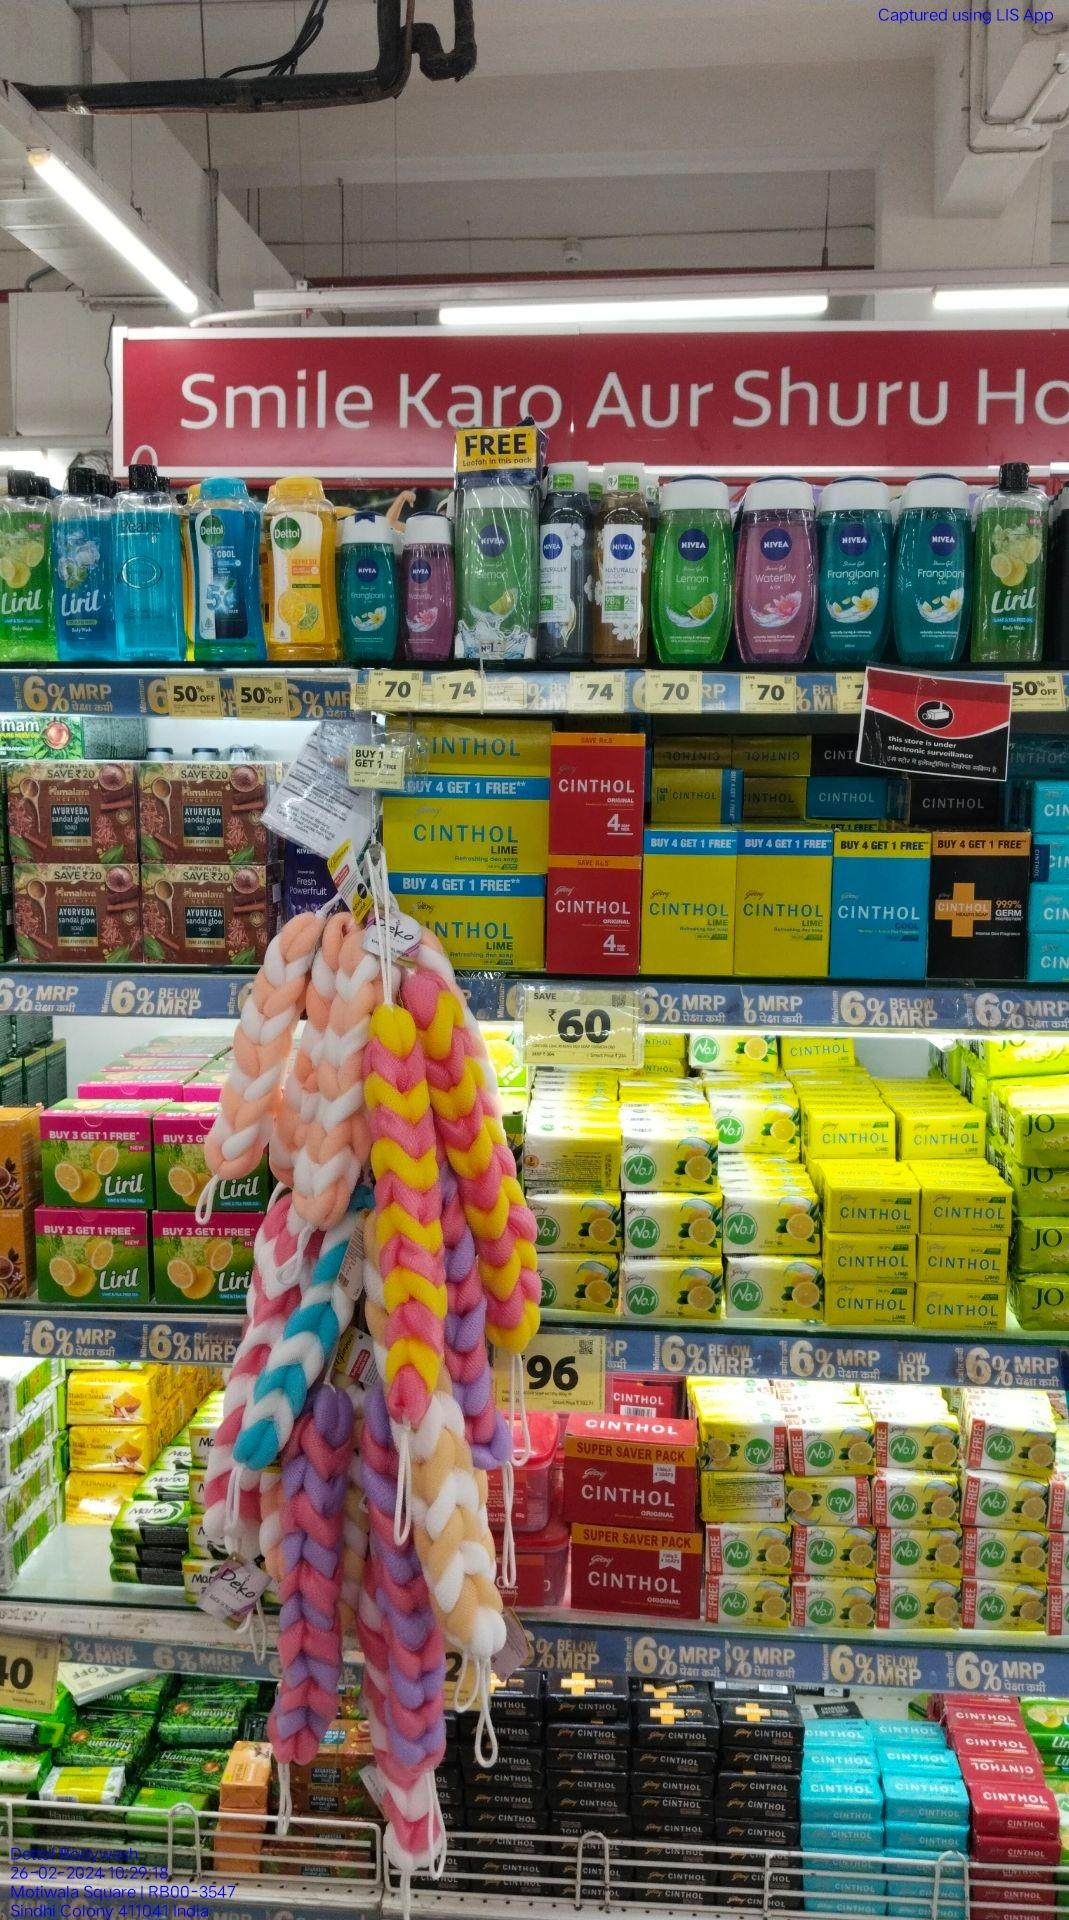Dettol_Bodywash_Cool: (195, 478, 263, 665)
Dettol_Bodywash_Refresh: (266, 479, 342, 662)
Liril_Cooling_Mint_Body_Wash_250ML: (55, 465, 115, 659)
Liril_Lime_and_Tea_Tree_Oil_Body_Wash_250ML: (981, 463, 1048, 665), (0, 466, 54, 661)
Nivea_Shower_Gel_Frangipani_and_Oil_250ML: (902, 478, 970, 666), (820, 476, 885, 654), (345, 517, 395, 658)
Nivea_Shower_Gel_Lemon_and_Oil_250ML: (458, 475, 540, 658), (654, 480, 727, 665)
Nivea_Shower_Gel_Waterlily_and_Oil_250ML: (739, 480, 815, 665), (404, 512, 452, 659)
Pears_Pure_Glycerin_and_Mint_Extracts_Body_Wash_250ML: (118, 463, 178, 663)
